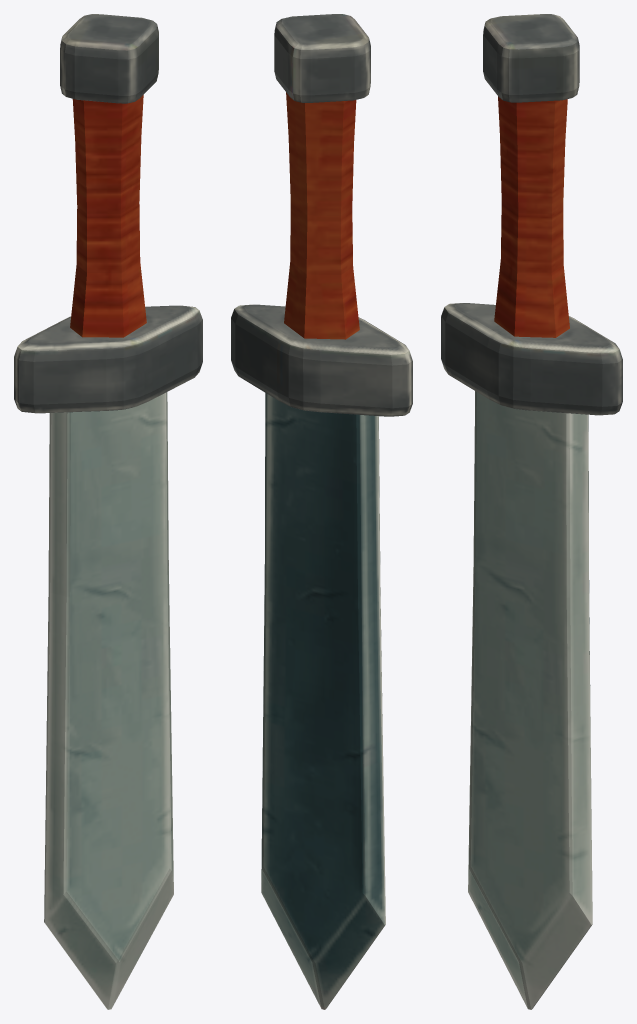
The model's file is sword.fbx.
3 renders of one model, left to right at view 1: azimuth 30°, elevation 25°; view 2: azimuth 150°, elevation 25°; view 3: azimuth 330°, elevation 25°, orthographic.
Visible parts, largest first — view 1: sword; view 2: sword; view 3: sword.
Boxes of the visible parts, left/top/right/bottom form: sword: left=14, top=14, right=202, bottom=1009; sword: left=231, top=14, right=412, bottom=1009; sword: left=441, top=14, right=622, bottom=1009.
Size of the model in its own units: 14.2 by 73.6 by 6.82.
Materials: 1 (1 with a texture image).
